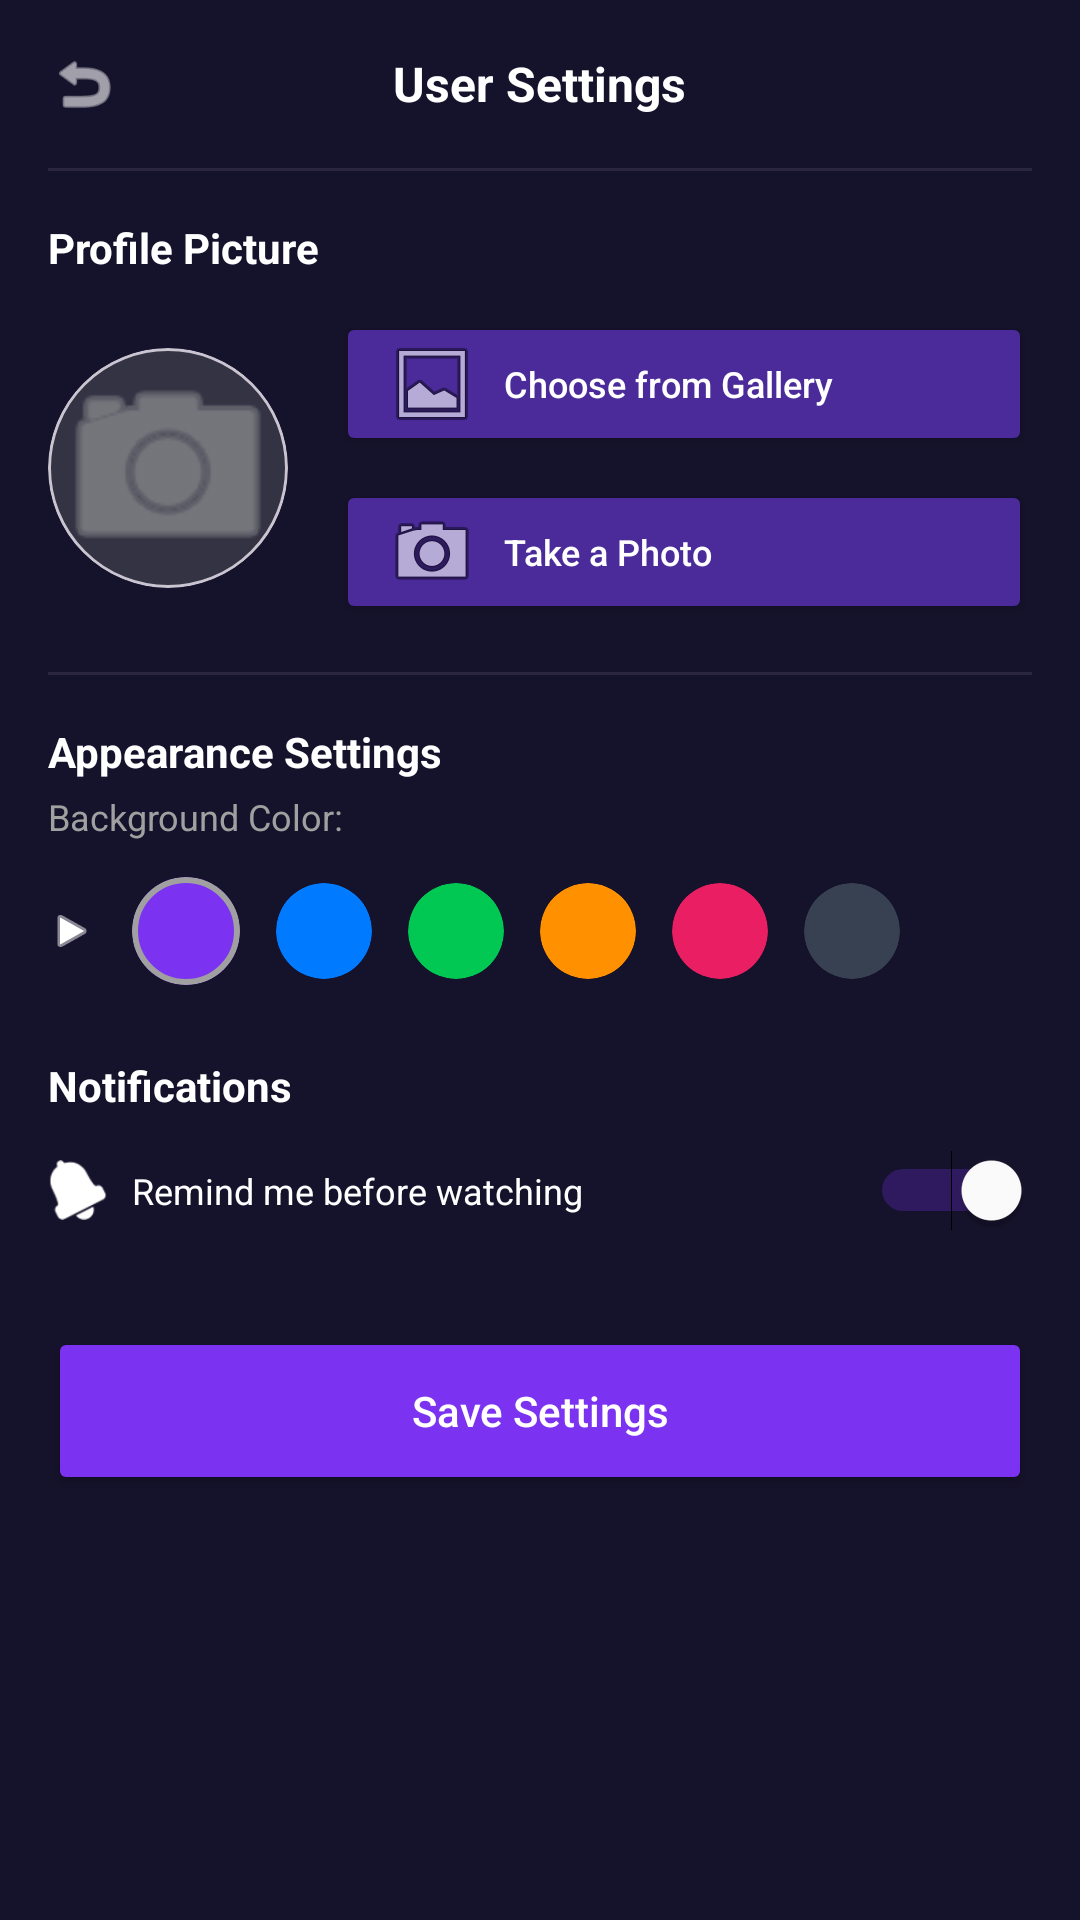

Icons on this 1080x1920 Android screen, each with its box as box(x1, y1, x2, y2):
play: box(57, 915, 87, 947)
popup reminder: box(50, 1160, 106, 1220)
revert: box(59, 61, 111, 108)
